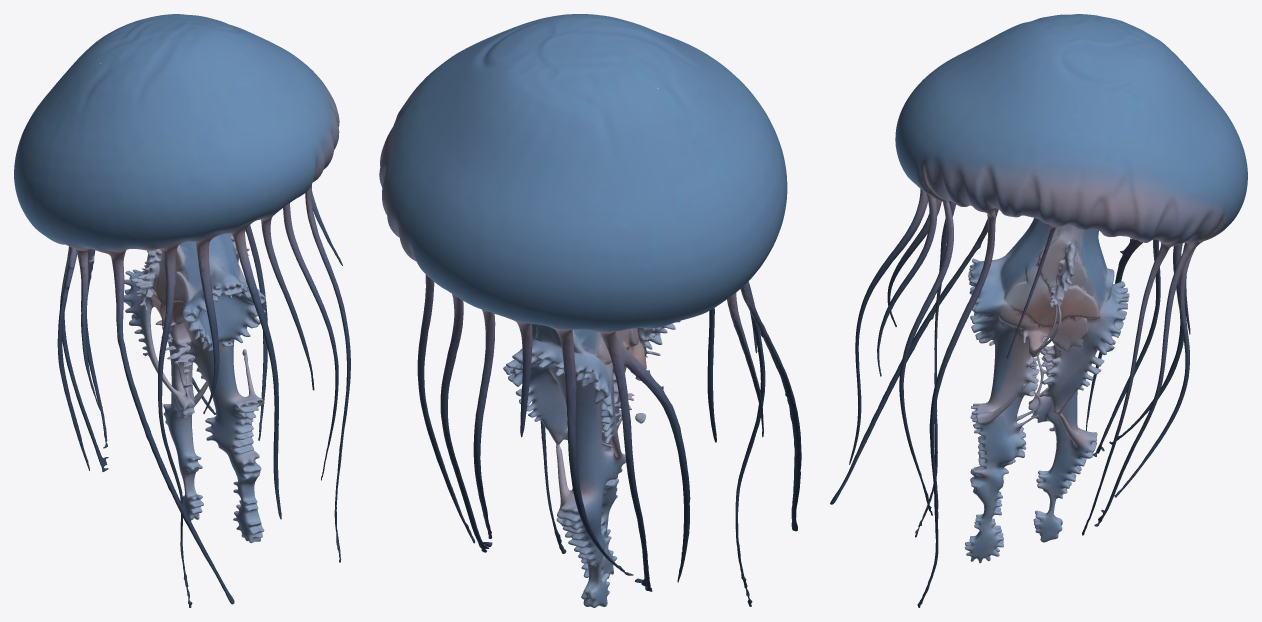
Rendered from shuimu.glb.
3 views of the same model, side by side, from view 1: azimuth 30°, elevation 25°; view 2: azimuth 150°, elevation 25°; view 3: azimuth 270°, elevation 25° (orthographic). The views are drawn at different scales.
Visible parts, largest first — view 1: tripo_node_ea2ae0bf-7372-4813-954a-d0abcb426b0b; view 2: tripo_node_ea2ae0bf-7372-4813-954a-d0abcb426b0b; view 3: tripo_node_ea2ae0bf-7372-4813-954a-d0abcb426b0b.
Boxes of the visible parts, bbox=[...] form: tripo_node_ea2ae0bf-7372-4813-954a-d0abcb426b0b: bbox=[14, 14, 350, 607]; tripo_node_ea2ae0bf-7372-4813-954a-d0abcb426b0b: bbox=[379, 14, 801, 607]; tripo_node_ea2ae0bf-7372-4813-954a-d0abcb426b0b: bbox=[830, 14, 1247, 607].
Size of the model in its own units: 0.587 by 0.9973 by 0.6982.
Materials: 1 (1 with a texture image).
